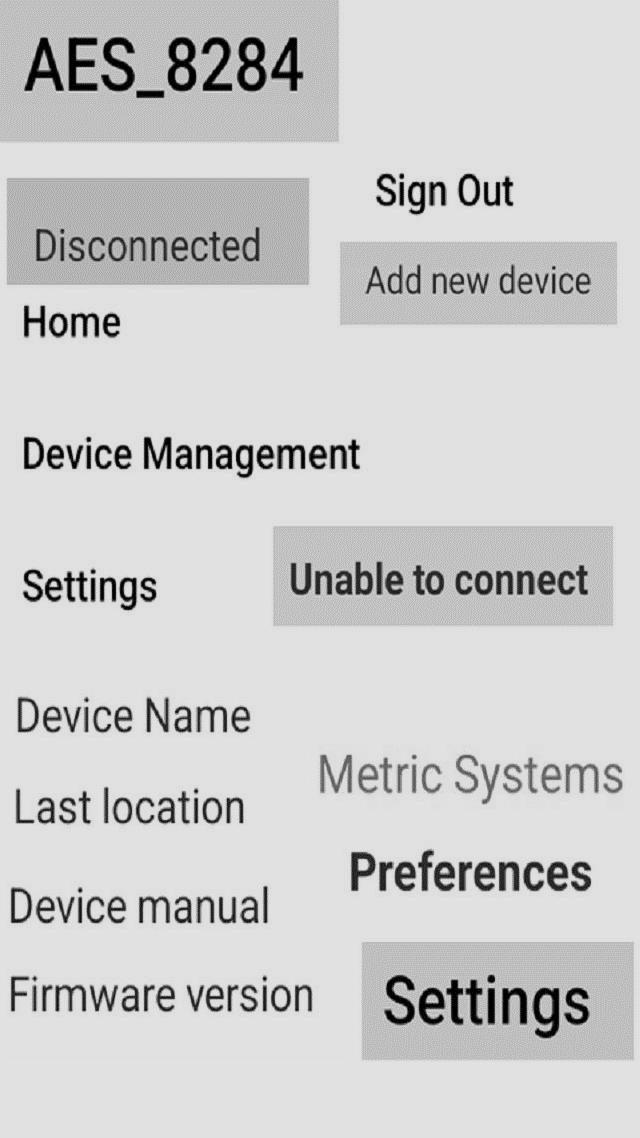Text: (18, 30, 312, 102), (14, 429, 368, 481), (310, 747, 622, 806), (284, 556, 596, 610), (377, 968, 599, 1043), (5, 967, 320, 1017), (11, 781, 250, 836), (9, 688, 254, 740), (7, 881, 278, 928), (27, 219, 275, 269), (346, 848, 593, 897), (359, 259, 601, 305), (17, 566, 163, 614), (374, 169, 518, 217), (16, 299, 127, 347)
